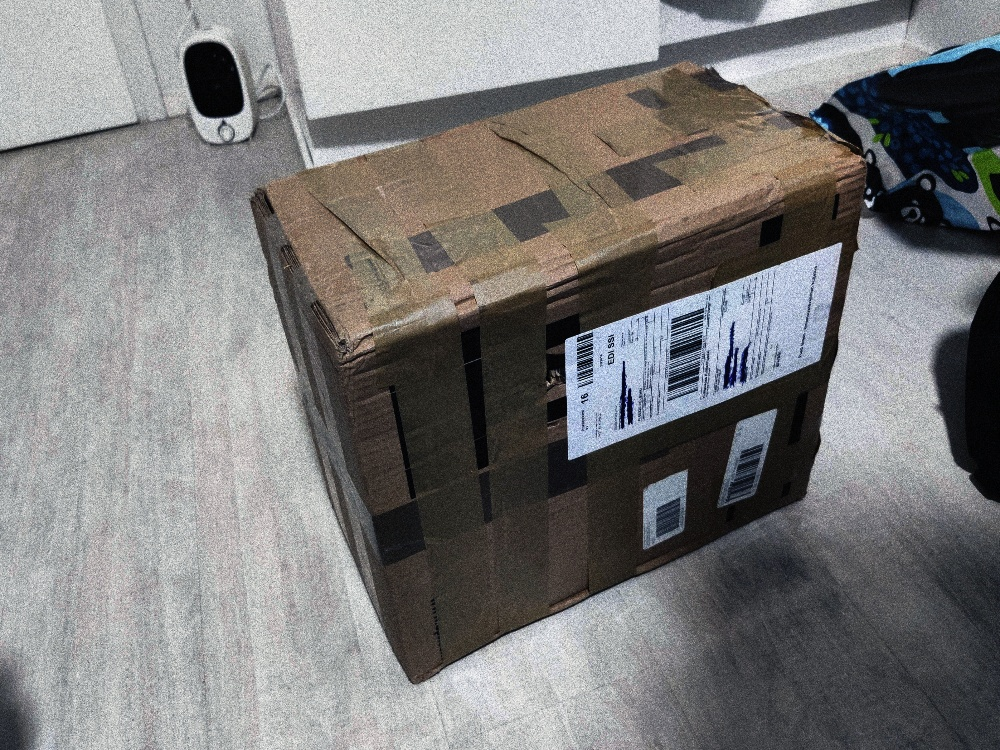good-parcel: (252, 57, 858, 700)
